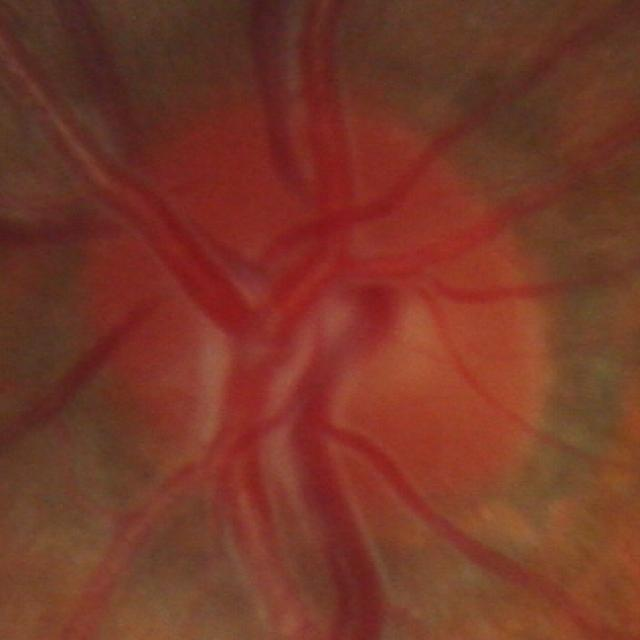OC: (215, 242, 428, 416)
OD: (72, 116, 554, 524)
